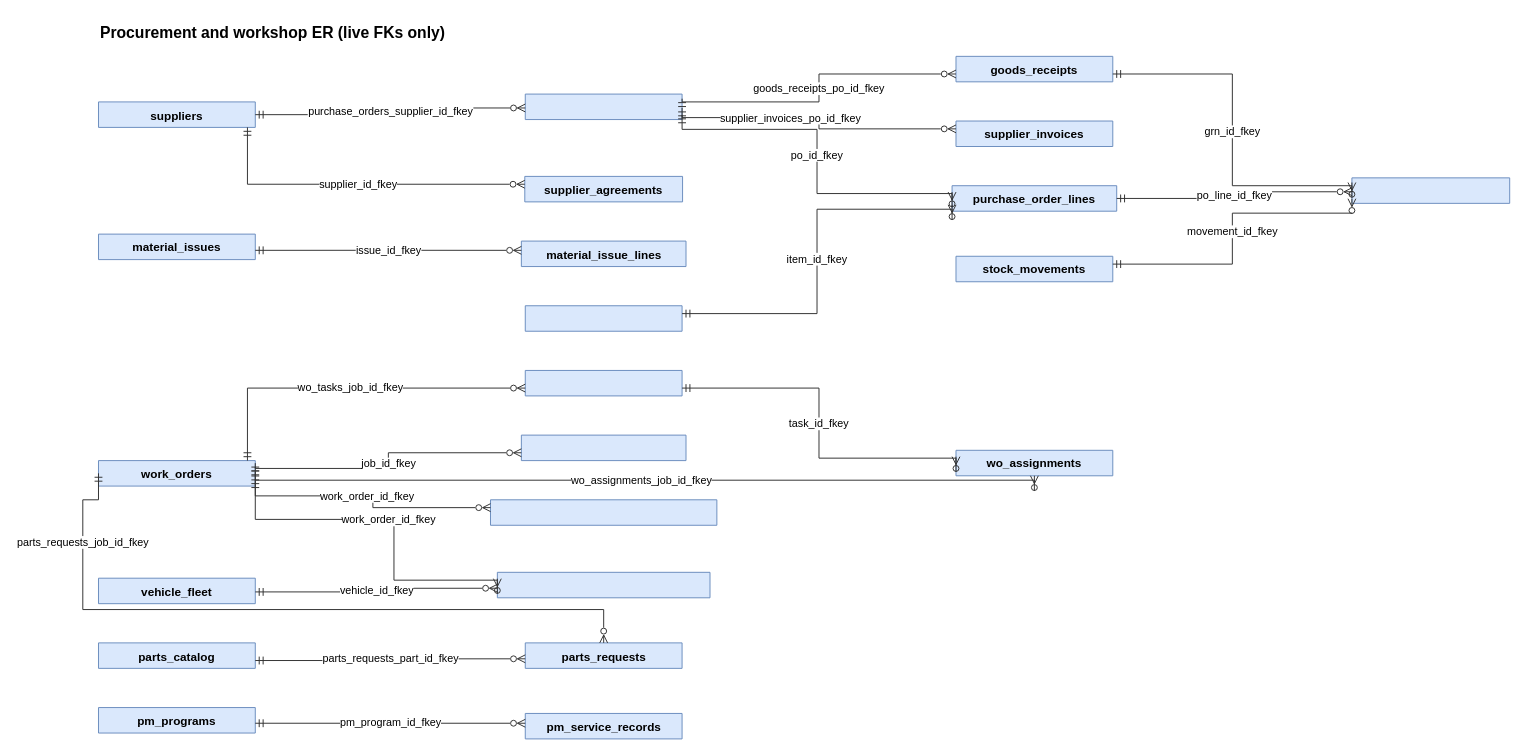
Image size: 1527x756. Some labels were removed from this diagram. Each missing label, with the centre of its shape:
"approval_execution_requests" goes at point 603,584.
"goods_receipt_lines" goes at point 1430,190.
"material_master" goes at point 603,318.
"purchase_orders" goes at point 603,106.
"tech_activity_events" goes at point 603,447.
"wo_tasks" goes at point 603,382.
"work_order_stock_reservations" goes at point 603,512.
